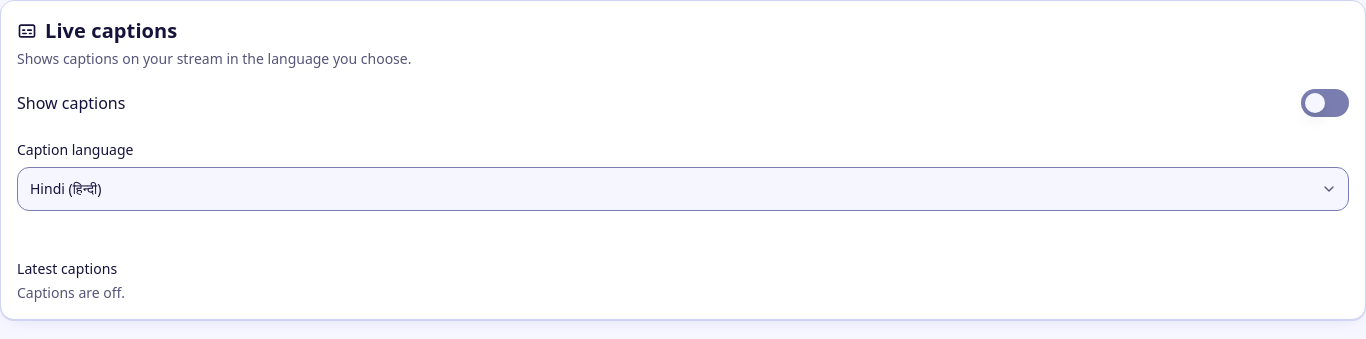
Test: CaptionsControl › goes back and says so when the API refuses
Click the switch named "Show captions": point(1325, 103) [1301,89,1349,117]
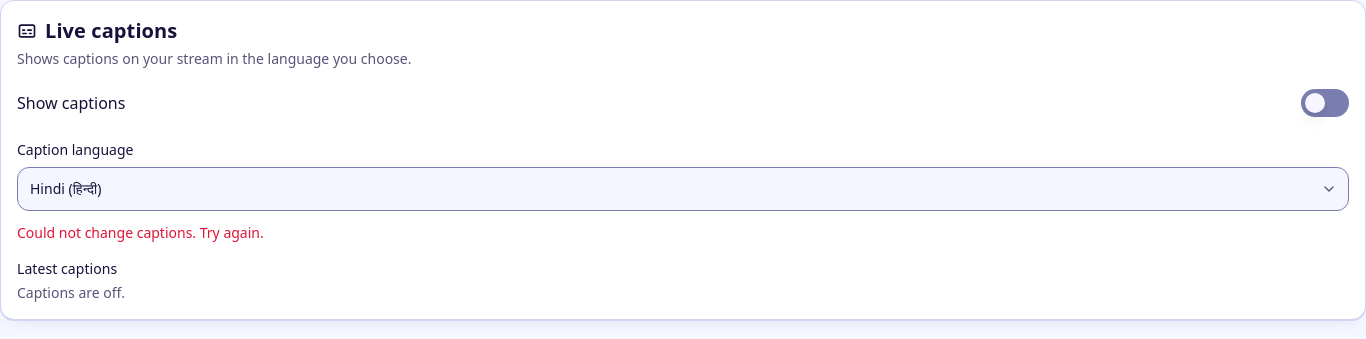
Now the text "Could not change captions. Try again." is shown, box [17,223,264,242]
